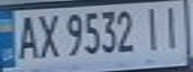2: (115, 7, 139, 54)
3: (100, 8, 121, 55)
5: (81, 8, 103, 56)
9: (60, 9, 84, 56)
A: (12, 11, 42, 61)
I: (157, 2, 187, 51), (139, 3, 166, 52)
X: (33, 10, 60, 60)
